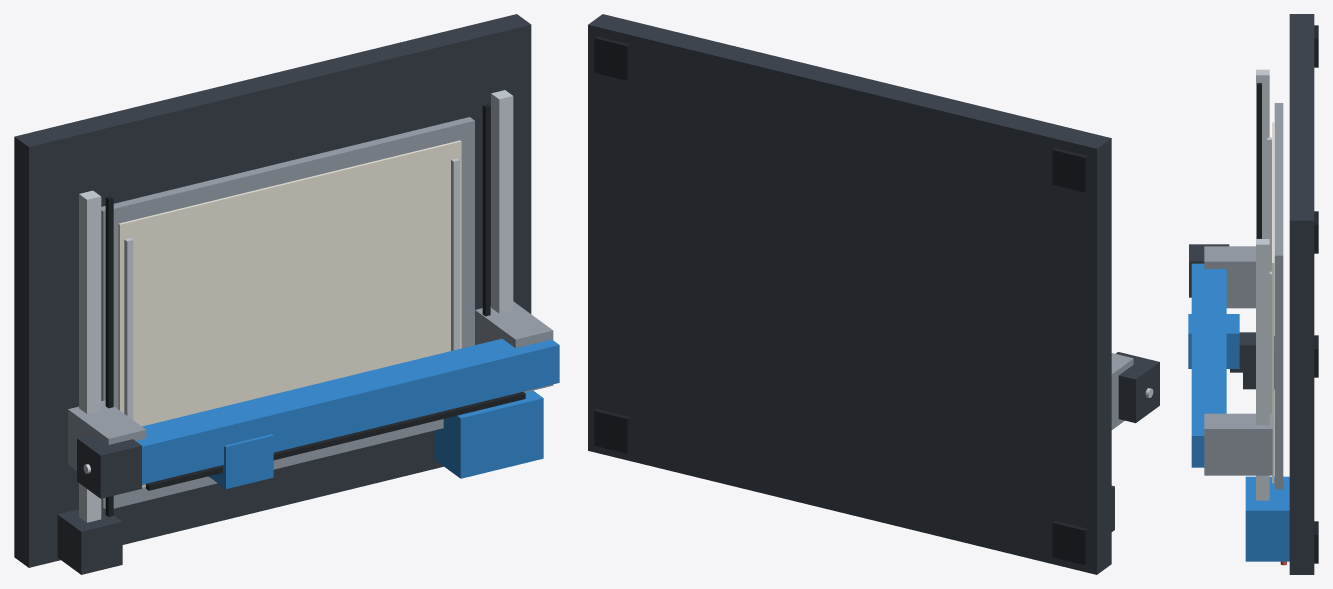
The model's file is robot.glb.
3 views of the same model, side by side, from view 1: azimuth 30°, elevation 25°; view 2: azimuth 150°, elevation 25°; view 3: azimuth 270°, elevation 25° (orthographic). The views are drawn at different scales.
Parts seen in each view (by area): view 1: RS_paper-bed, RS_base, RS_y-gantry, RS_controller, RS_left-y-rail, RS_right-y-rail, RS_y-motor, RS_x-motor, RS_x-belt, RS_x-carriage, RS_left-y-belt, RS_right-y-belt; view 2: RS_base, RS_x-motor, RS_y-gantry; view 3: RS_base, RS_y-gantry, RS_paper-bed, RS_controller, RS_right-y-rail, RS_left-y-rail, RS_x-carriage, RS_left-y-belt, RS_pen-lift, RS_x-motor, RS_y-motor.
Part boxes in pixels (bbox=[...]): RS_paper-bed: bbox=[101, 117, 474, 508]; RS_base: bbox=[14, 14, 531, 567]; RS_y-gantry: bbox=[68, 301, 559, 485]; RS_controller: bbox=[434, 390, 543, 478]; RS_left-y-rail: bbox=[79, 190, 101, 522]; RS_right-y-rail: bbox=[491, 90, 513, 313]; RS_y-motor: bbox=[57, 507, 122, 574]; RS_x-motor: bbox=[77, 434, 141, 498]; RS_x-belt: bbox=[146, 392, 525, 490]; RS_x-carriage: bbox=[209, 434, 273, 488]; RS_left-y-belt: bbox=[105, 196, 113, 516]; RS_right-y-belt: bbox=[482, 104, 490, 316]; RS_base: bbox=[588, 14, 1111, 574]; RS_x-motor: bbox=[1115, 352, 1159, 423]; RS_y-gantry: bbox=[1111, 353, 1133, 429]; RS_base: bbox=[1289, 14, 1318, 574]; RS_y-gantry: bbox=[1191, 246, 1272, 475]; RS_paper-bed: bbox=[1267, 103, 1283, 489]; RS_controller: bbox=[1245, 476, 1289, 565]; RS_right-y-rail: bbox=[1256, 239, 1269, 500]; RS_left-y-rail: bbox=[1256, 69, 1269, 238]; RS_x-carriage: bbox=[1188, 314, 1239, 368]; RS_left-y-belt: bbox=[1257, 83, 1261, 237]; RS_pen-lift: bbox=[1230, 332, 1255, 372]; RS_x-motor: bbox=[1189, 244, 1229, 297]; RS_y-motor: bbox=[1243, 336, 1274, 389].
Bounding box in the file's own units: 10 × 8 × 2.66.
